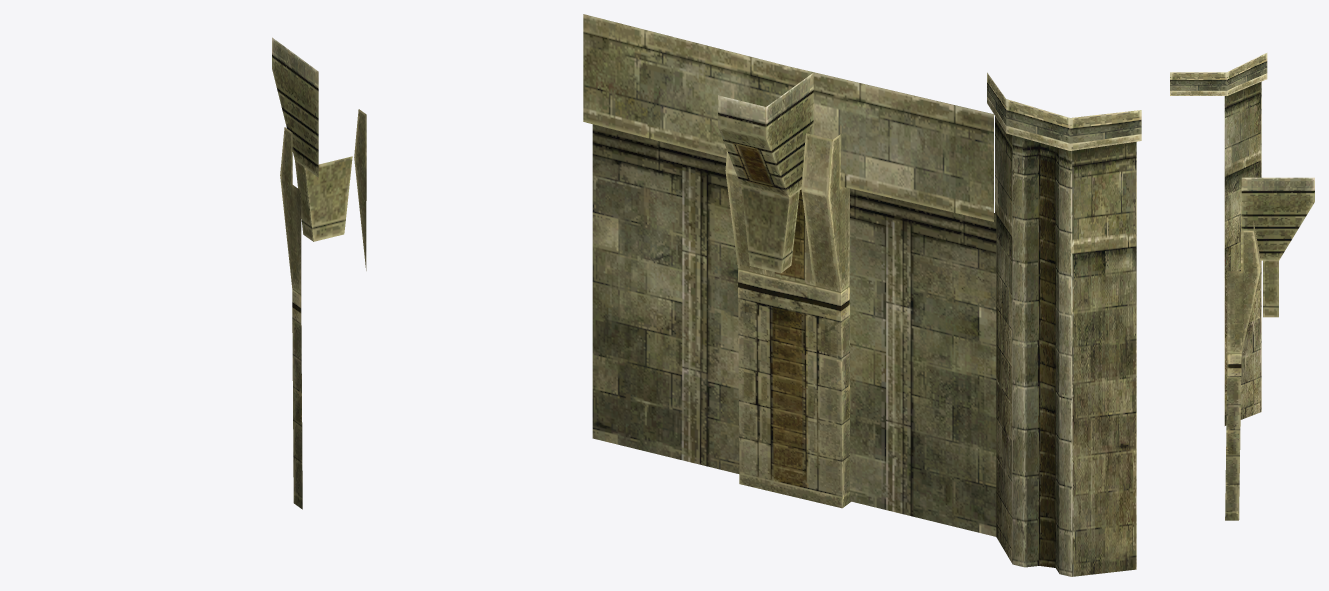
File: OZ_09_sn_T01Wall02A.glb
3 renders of one model, left to right at view 1: azimuth 30°, elevation 25°; view 2: azimuth 150°, elevation 25°; view 3: azimuth 270°, elevation 25°, orthographic. The views are drawn at different scales.
Parts seen in each view (by area): view 1: OM_09_sn_T01Wall02A; view 2: OM_09_sn_T01Wall02A; view 3: OM_09_sn_T01Wall02A.
Boxes of the visible parts, x1=… form: OM_09_sn_T01Wall02A: x1=272, y1=37, x2=366, y2=509; OM_09_sn_T01Wall02A: x1=583, y1=14, x2=1141, y2=576; OM_09_sn_T01Wall02A: x1=1170, y1=53, x2=1314, y2=520.
Bounding box in the file's own units: 15.98 × 13.02 × 4.74.
Materials: 4 (4 with a texture image).
